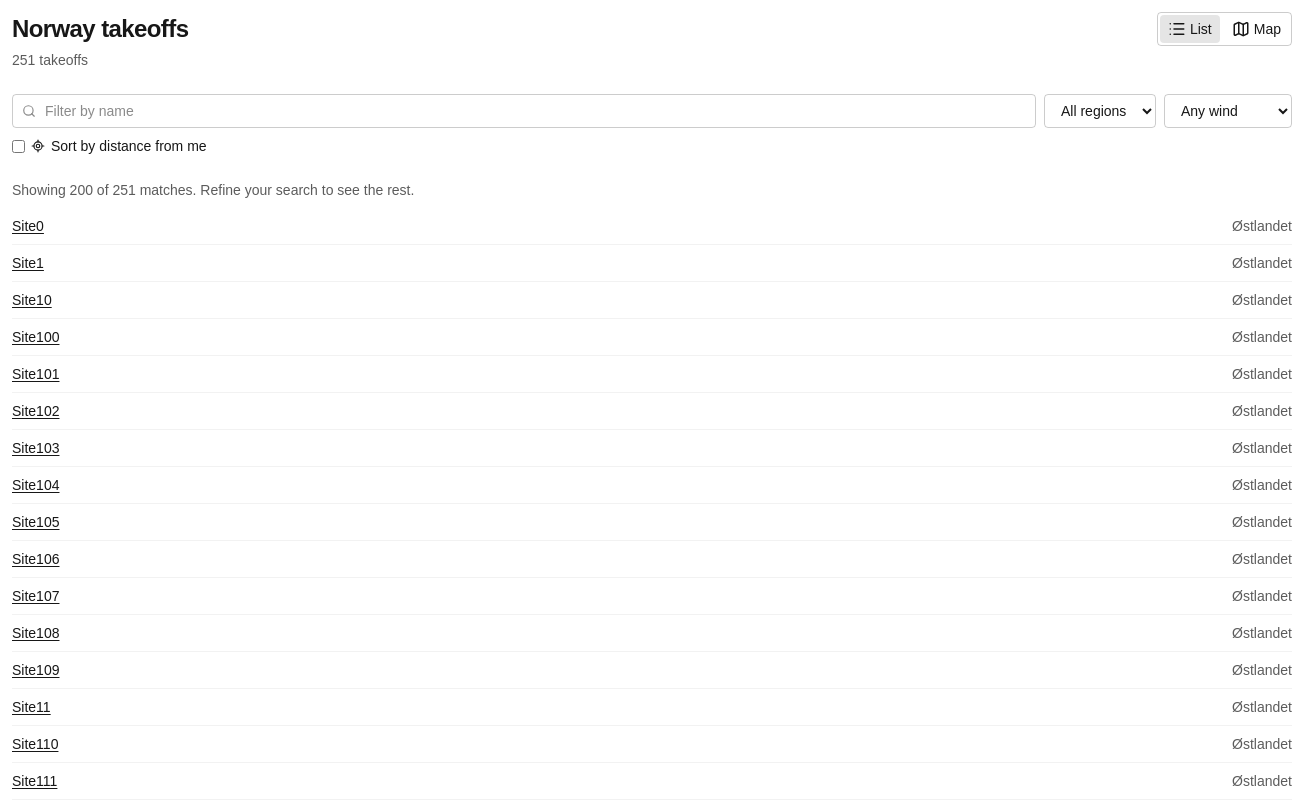
Scenario: TakeoffDirectory — input-driven filtering › caps the rendered rows and shows a visible truncation notice, which disappears once the match set narrows under the cap
In the field named "takeoff name": (524,111) [12,94,1036,128], type "uniqueonly"
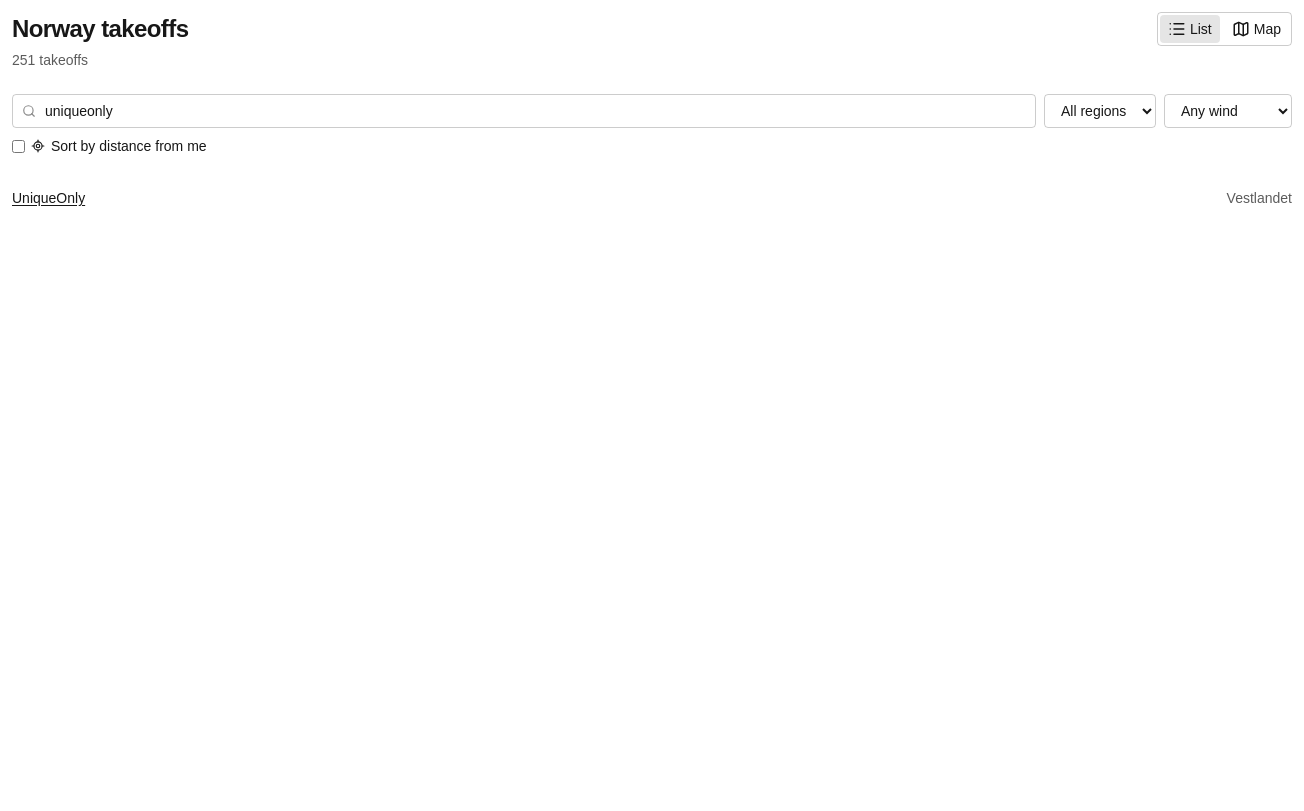
Now the link "UniqueOnly" is shown, box [12,188,85,208]
